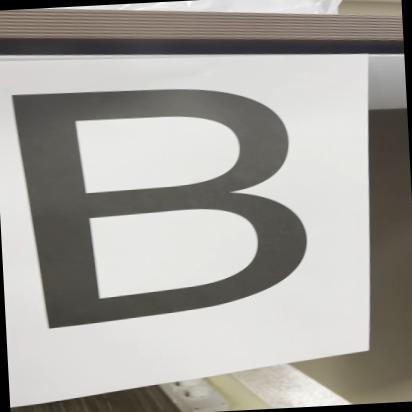seat: (0, 70, 346, 336)
